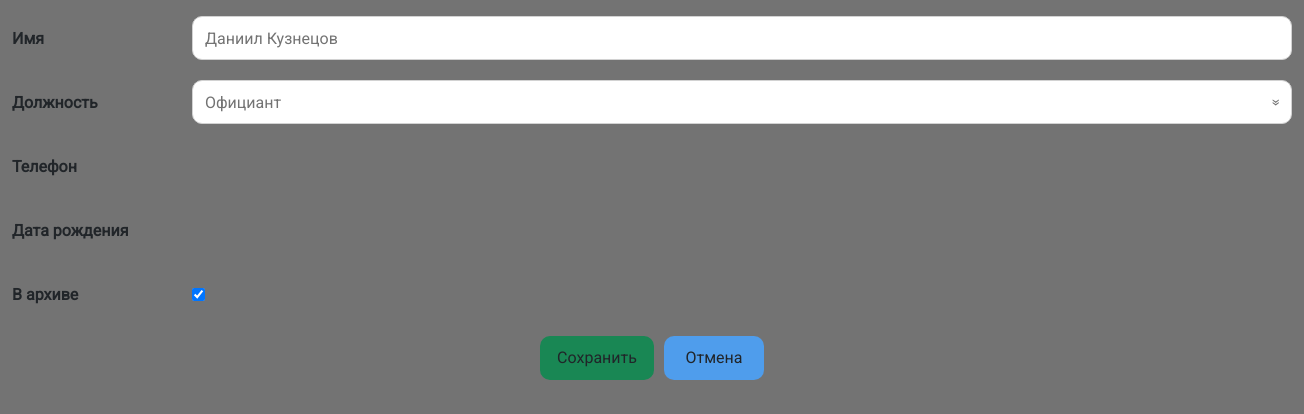
it: Test Employee Form › name has incorrect value alert
This screenshot has width=1304, height=414.
Replace the text in the field with test id "name" with "Василий". click: (742, 38)
box: [192,16,1292,60]
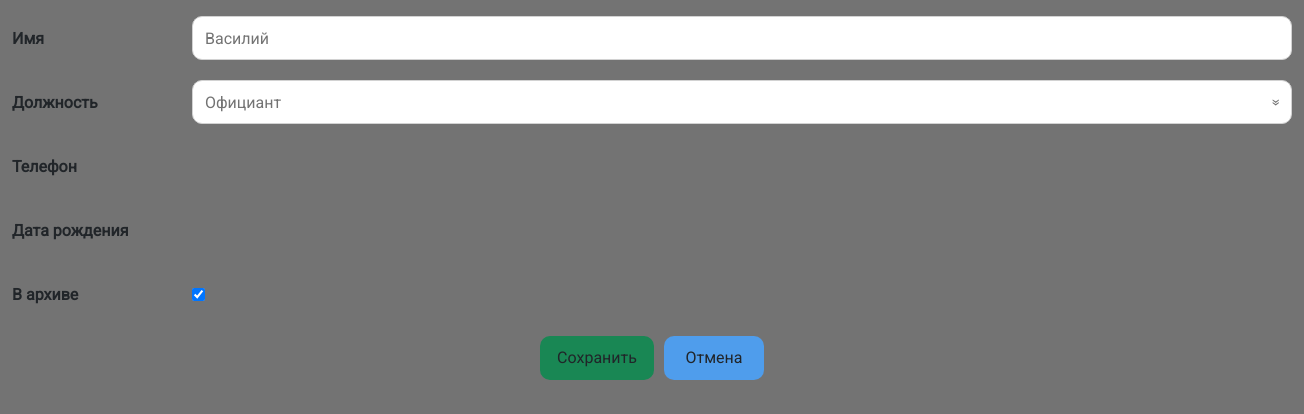
Submit the form from the button with test id "submit-btn", box [540,336,654,380]
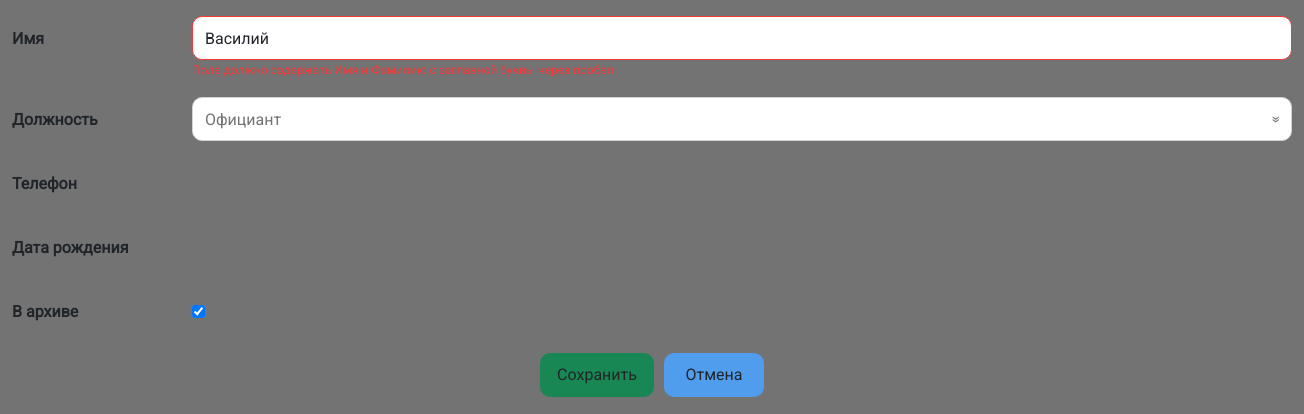
Expected: the number of messages is 1, [192,63,614,77]
